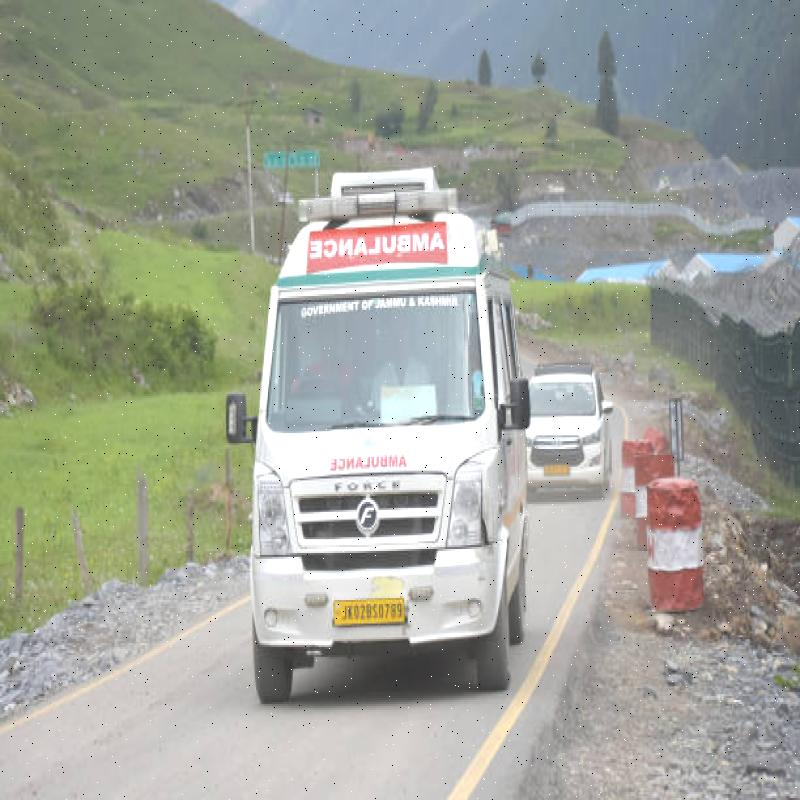ambulance: (241, 167, 520, 649)
